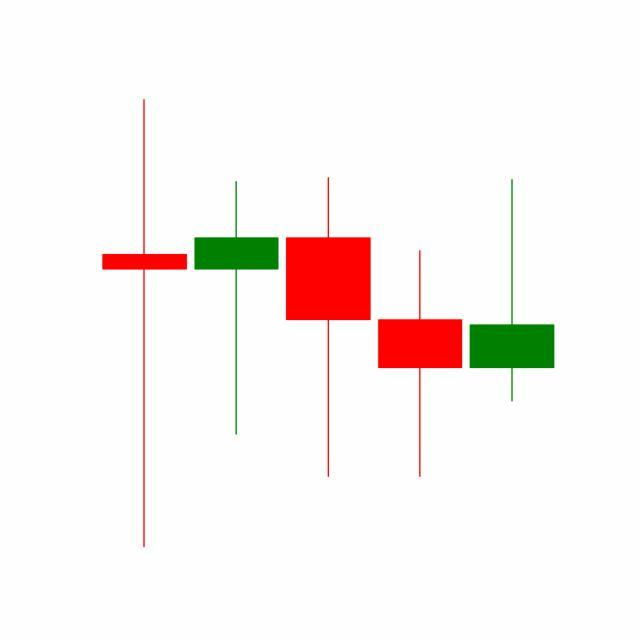Spinning Top: (374, 249, 468, 480)
